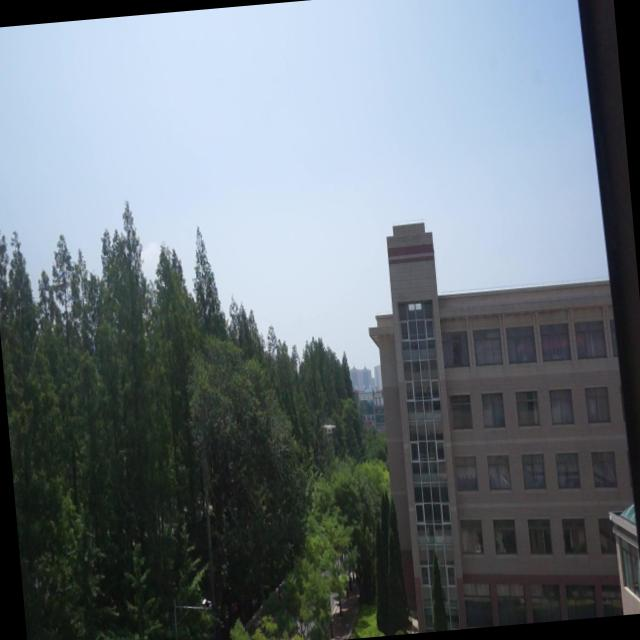drone: (320, 417, 338, 439)
